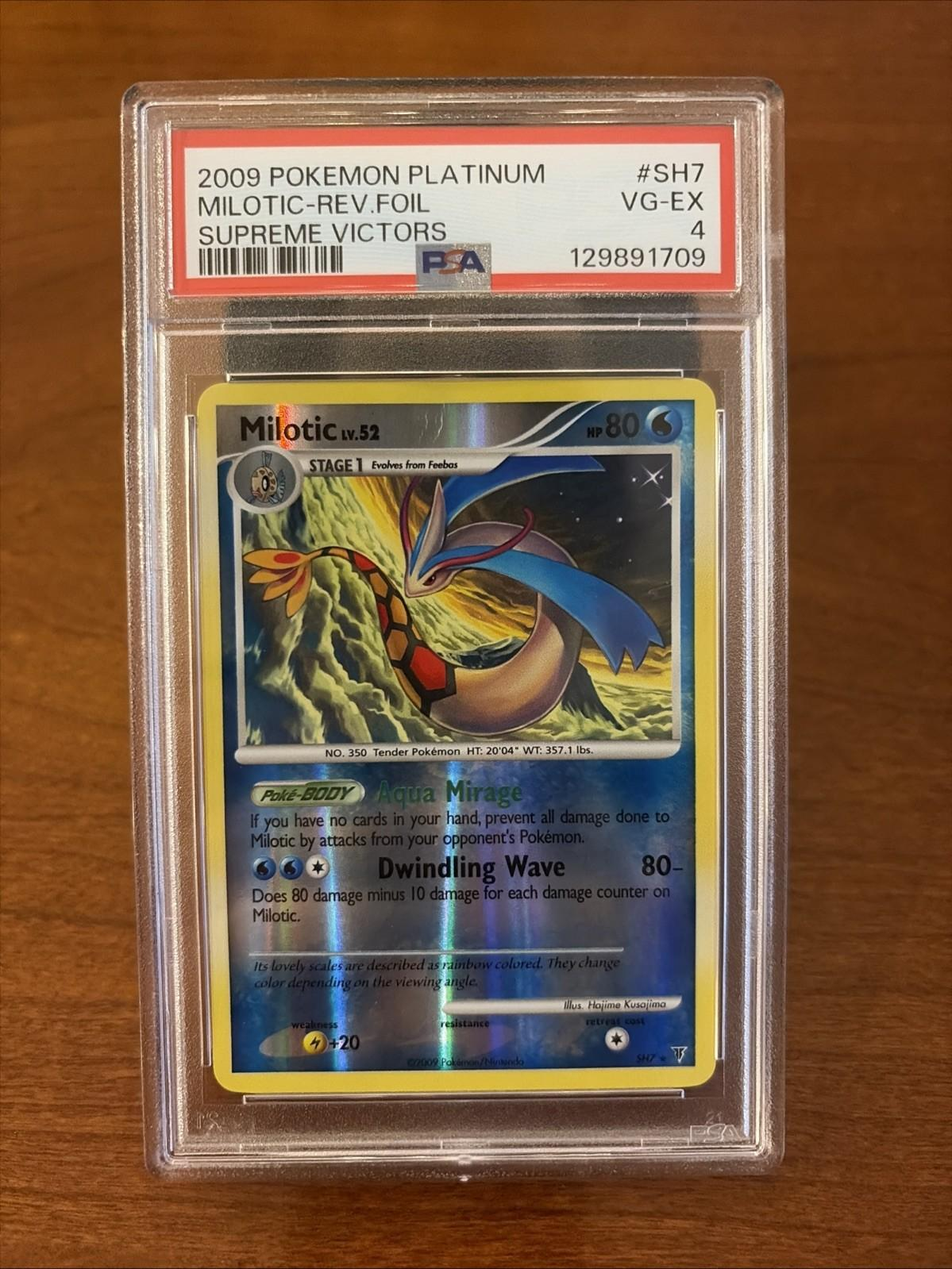card-2UtV: (196, 377, 717, 1094)
